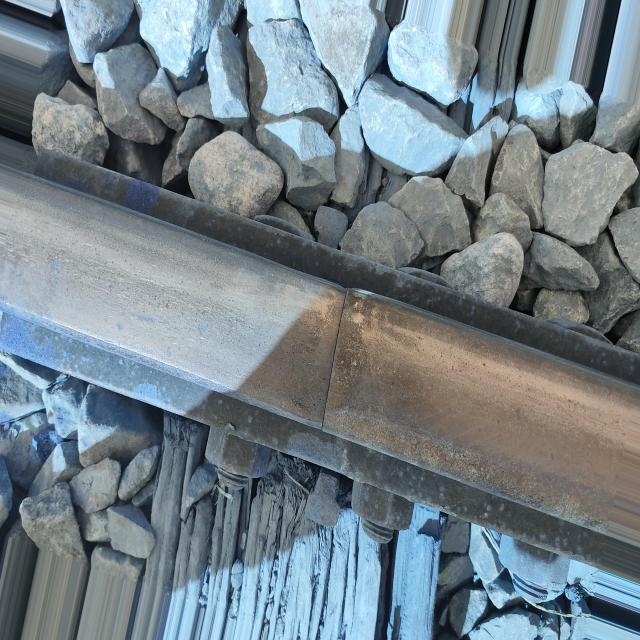Defective Joint: (0, 146, 633, 637)
